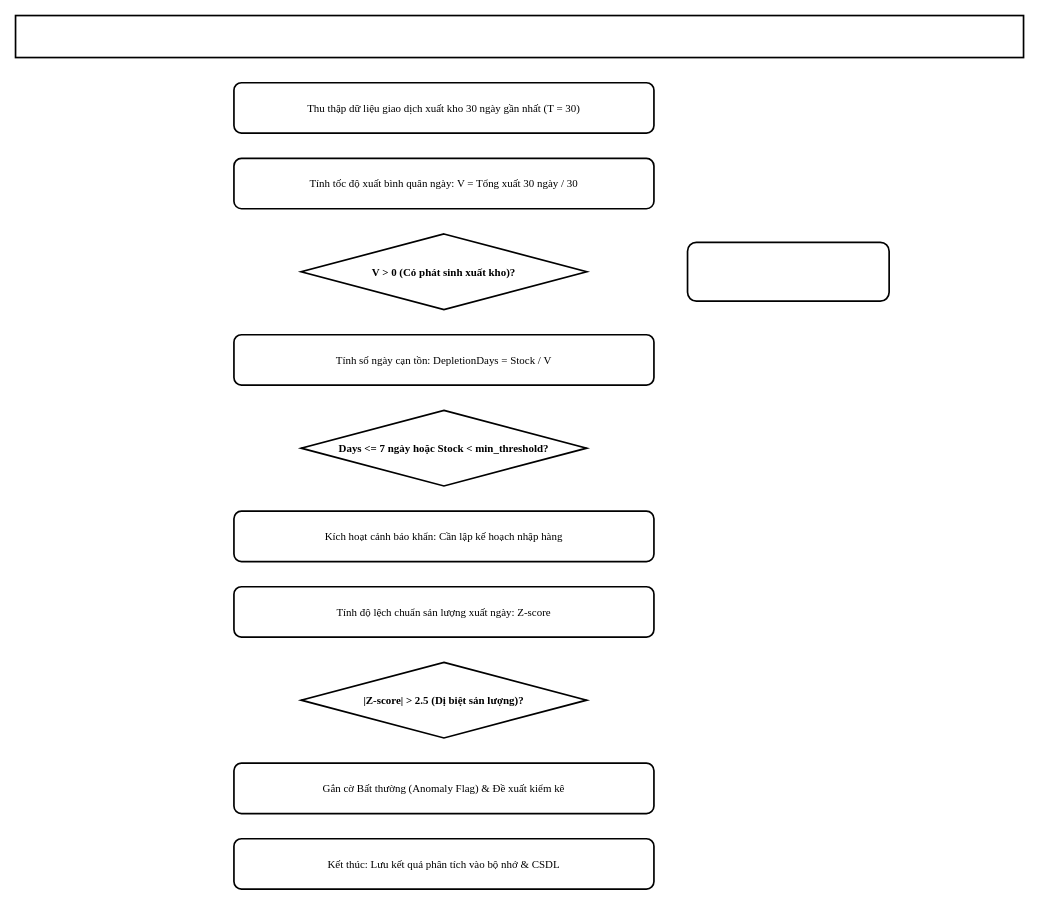
Image size: 1038x904. Some labels were removed from this diagram. Here are the shapes that lost their labels. From the top down, the centre of each, then its label:
the point at 519,36: LƯU ĐỒ THUẬT TOÁN PHÁT HIỆN BẤT THƯỜNG & TÍNH BURN-RATE
the point at 788,271: TỒN KHO ỔN ĐỊNH Gán Days = 999 ngày
